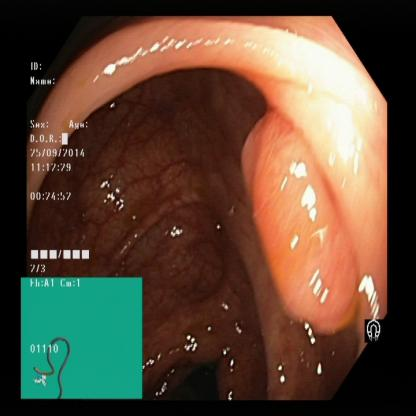Labels: (27, 53, 99, 275), (18, 274, 143, 400), (364, 313, 385, 349)
Polyps: (235, 122, 348, 336)
